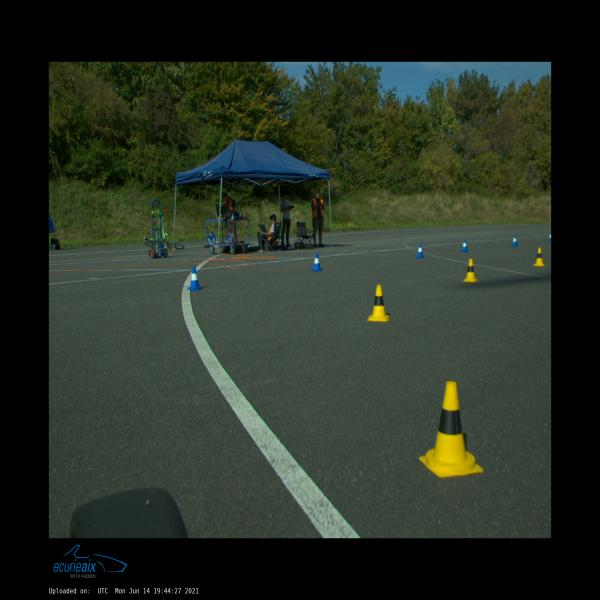blue_cone: (187, 267, 203, 290), (312, 254, 322, 272), (417, 244, 424, 258), (461, 239, 468, 252), (512, 235, 518, 246), (548, 232, 552, 242)
yellow_cone: (419, 381, 483, 478), (367, 284, 390, 322), (462, 258, 479, 282), (532, 248, 546, 266)
